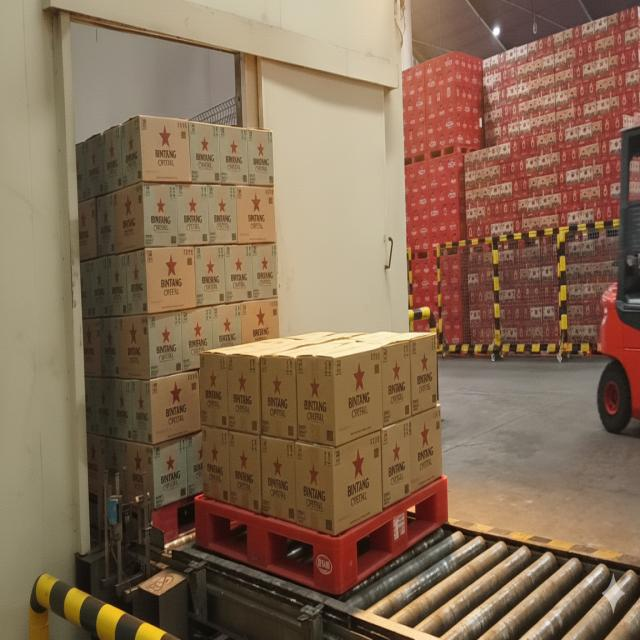pallet: (70, 105, 282, 548), (191, 314, 454, 598)
